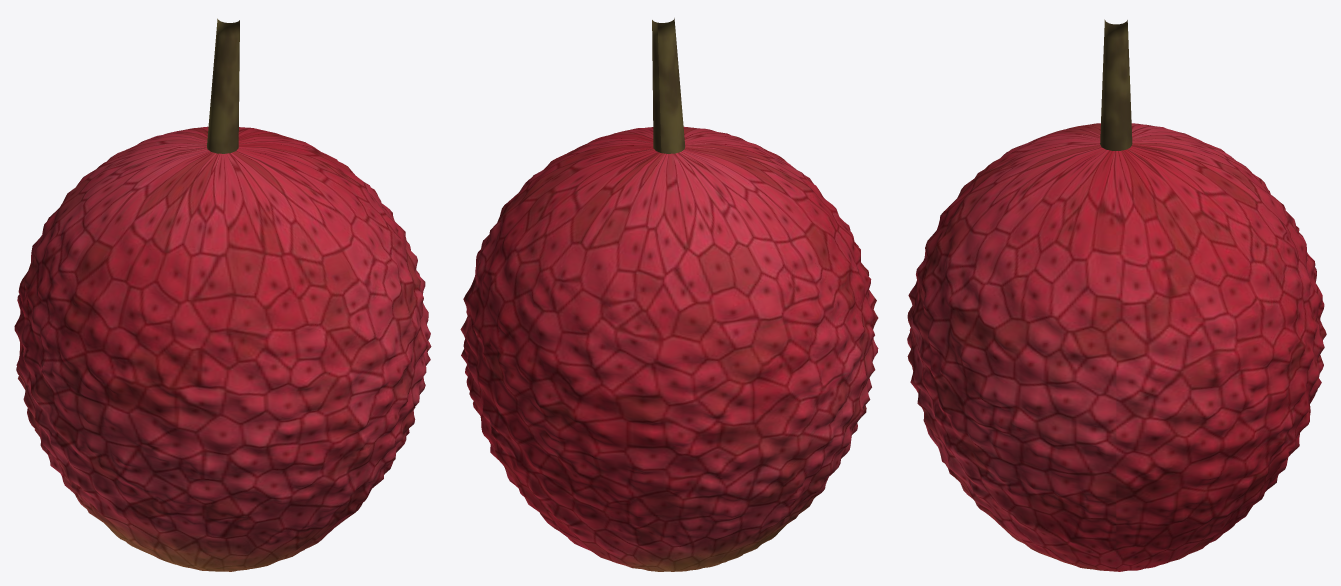
Rendered from letchi.glb.
3 renders of one model, left to right at view 1: azimuth 30°, elevation 25°; view 2: azimuth 150°, elevation 25°; view 3: azimuth 270°, elevation 25°, orthographic.
Visible parts, largest first — view 1: entier_peau, moitie_A_peau, moitie_B_peau, entier_extra0; view 2: moitie_B_peau, entier_peau, moitie_A_peau, entier_extra0; view 3: entier_peau, moitie_B_peau, moitie_A_peau, entier_extra0.
Boxes of the visible parts, x1=… form: entier_peau: x1=16, y1=127, x2=430, y2=571; moitie_A_peau: x1=41, y1=143, x2=431, y2=571; moitie_B_peau: x1=14, y1=126, x2=337, y2=532; entier_extra0: x1=207, y1=18, x2=239, y2=153; moitie_B_peau: x1=460, y1=141, x2=850, y2=571; entier_peau: x1=462, y1=127, x2=878, y2=571; moitie_A_peau: x1=545, y1=127, x2=878, y2=530; entier_extra0: x1=652, y1=18, x2=685, y2=153; entier_peau: x1=907, y1=123, x2=1326, y2=571; moitie_B_peau: x1=1116, y1=123, x2=1325, y2=571; moitie_A_peau: x1=907, y1=123, x2=1116, y2=571; entier_extra0: x1=1100, y1=19, x2=1132, y2=150.
Bounding box in the file's own units: 0.033 × 0.047 × 0.033.
Materials: 3 (3 with a texture image).
